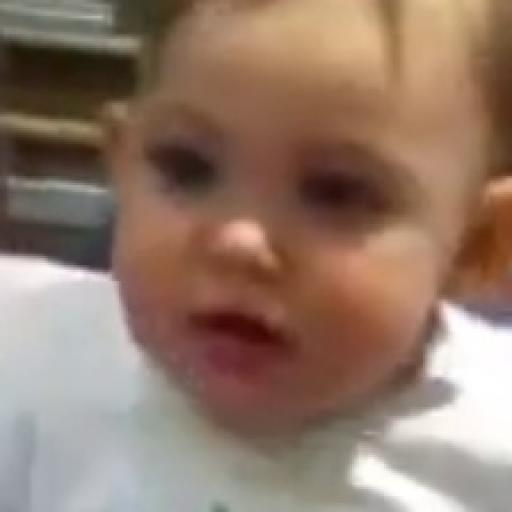Autism: (114, 47, 485, 512)
